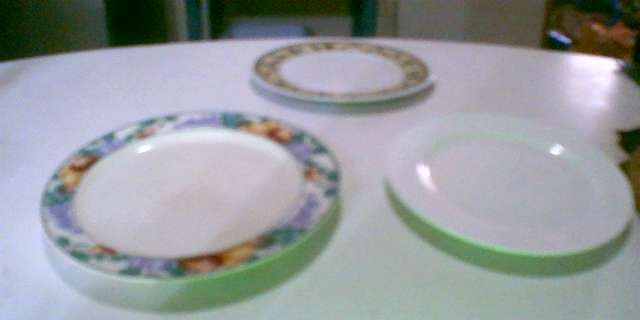empty_plate: (33, 100, 345, 293), (372, 108, 637, 267), (243, 33, 439, 109)
